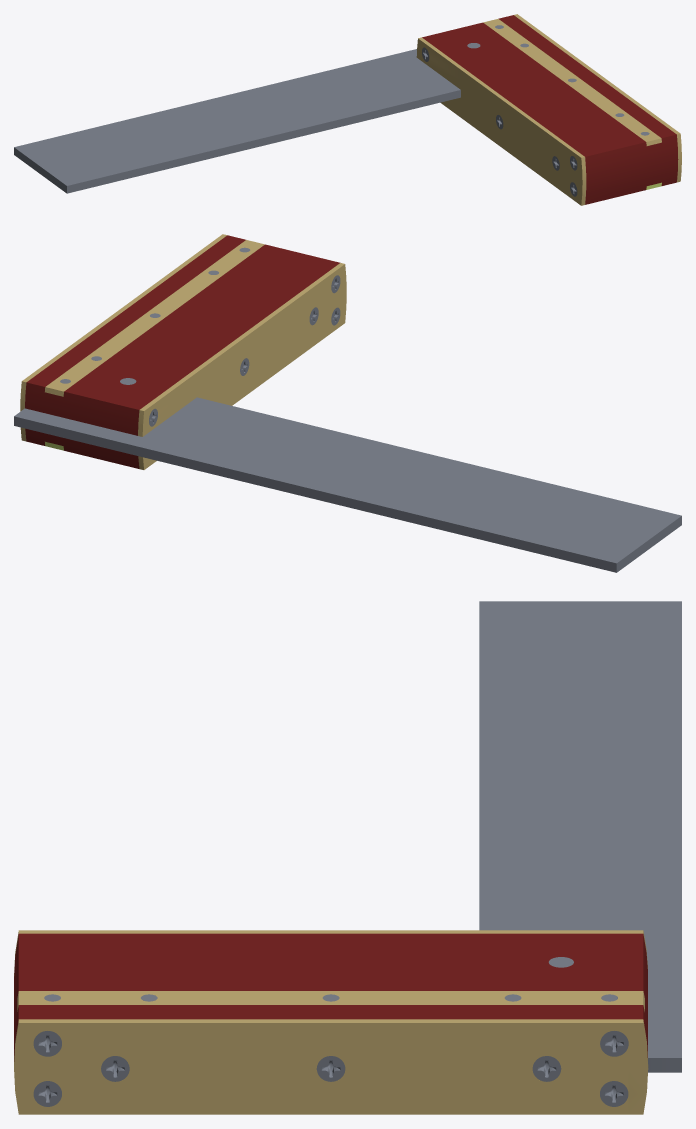
The model's file is Try square.FBX.
3 renders of one model, top to bottom at view 1: azimuth 30°, elevation 25°; view 2: azimuth 150°, elevation 25°; view 3: azimuth 270°, elevation 25°, orthographic. The views are drawn at different scales.
Parts seen in each view (by area): view 1: VIFS365, VIFS363, VIFS364, VIFS367, VIFS366; view 2: VIFS365, VIFS363, VIFS364, VIFS367, VIFS366; view 3: VIFS365, VIFS366, VIFS363, VIFS367, VIFS364.
Boxes of the visible parts, x1=… form: VIFS365: x1=14, y1=49, x2=460, y2=193; VIFS363: x1=422, y1=15, x2=678, y2=204; VIFS364: x1=416, y1=37, x2=586, y2=205; VIFS367: x1=483, y1=19, x2=661, y2=145; VIFS366: x1=514, y1=14, x2=681, y2=182; VIFS365: x1=14, y1=397, x2=681, y2=572; VIFS363: x1=25, y1=235, x2=340, y2=468; VIFS364: x1=138, y1=263, x2=346, y2=469; VIFS367: x1=45, y1=240, x2=264, y2=396; VIFS366: x1=20, y1=234, x2=227, y2=441; VIFS365: x1=479, y1=601, x2=681, y2=1072; VIFS366: x1=14, y1=1019, x2=648, y2=1114; VIFS363: x1=14, y1=933, x2=647, y2=1061; VIFS367: x1=17, y1=991, x2=644, y2=1011; VIFS364: x1=14, y1=930, x2=647, y2=975.
Bounding box in the file's own units: 8.81 × 0.8195 × 5.4.
